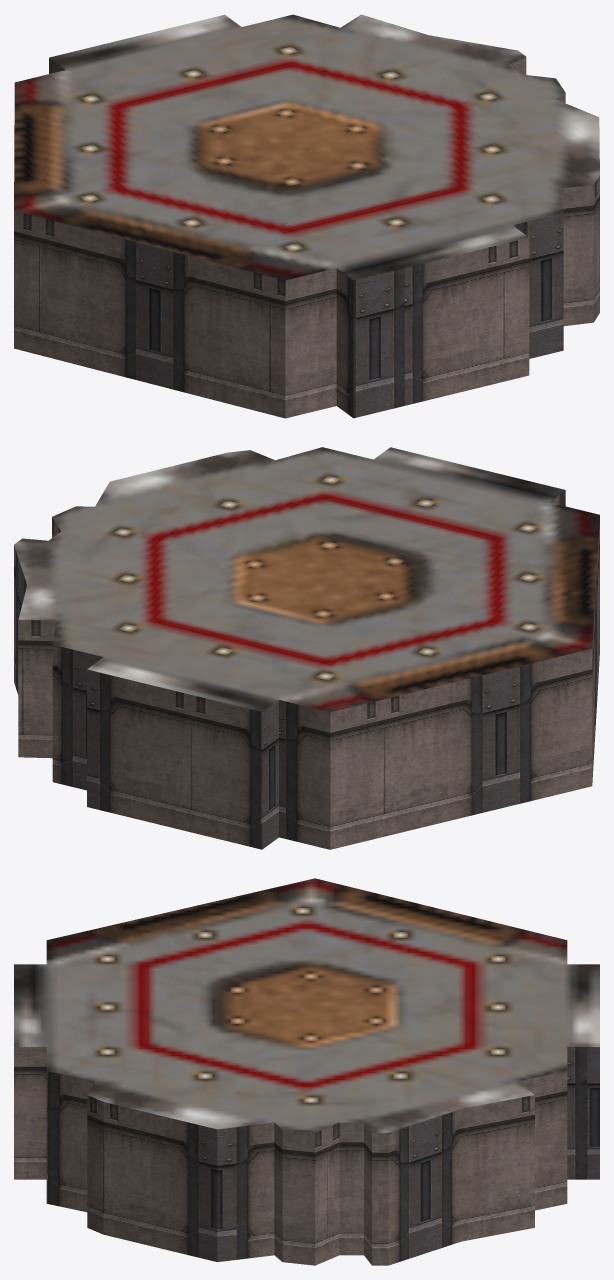
Rendered from bsealed_medium_a_15.glb.
3 renders of one model, top to bottom at view 1: azimuth 30°, elevation 25°; view 2: azimuth 150°, elevation 25°; view 3: azimuth 270°, elevation 25°, orthographic. The views are drawn at different scales.
Visible parts, largest first — view 1: buildings/saxarba/bsealed_medium/bsealed_medium_a_15; view 2: buildings/saxarba/bsealed_medium/bsealed_medium_a_15; view 3: buildings/saxarba/bsealed_medium/bsealed_medium_a_15.
Boxes of the visible parts, x1,y1,x2,y2 form: buildings/saxarba/bsealed_medium/bsealed_medium_a_15: (14,14,599,418); buildings/saxarba/bsealed_medium/bsealed_medium_a_15: (14,447,599,849); buildings/saxarba/bsealed_medium/bsealed_medium_a_15: (14,878,599,1265).
Size of the model in its own units: 74 by 18 by 72.
